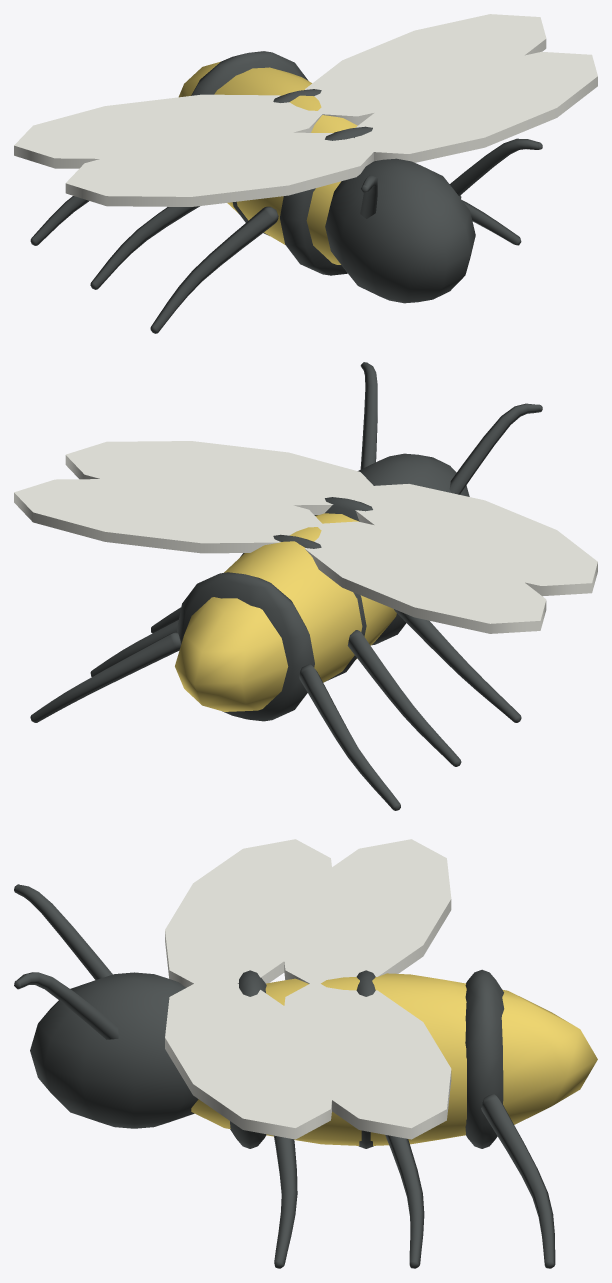
The model's file is birds-and-flying-creatures-bumblebee-002bfbf1__20659.glb.
The picture shows the model from 3 angles, top to bottom: view 1: azimuth 30°, elevation 25°; view 2: azimuth 150°, elevation 25°; view 3: azimuth 270°, elevation 25°; orthographic projection. The views are drawn at different scales.
Visible parts, largest first — view 1: bumblebee; view 2: bumblebee; view 3: bumblebee.
Part boxes in pixels (left/top/right/bottom): bumblebee: left=14, top=14, right=597, bottom=333; bumblebee: left=14, top=362, right=597, bottom=810; bumblebee: left=14, top=839, right=597, bottom=1268.
Size of the model in its own units: 0.0708 by 0.0273 by 0.0605.
